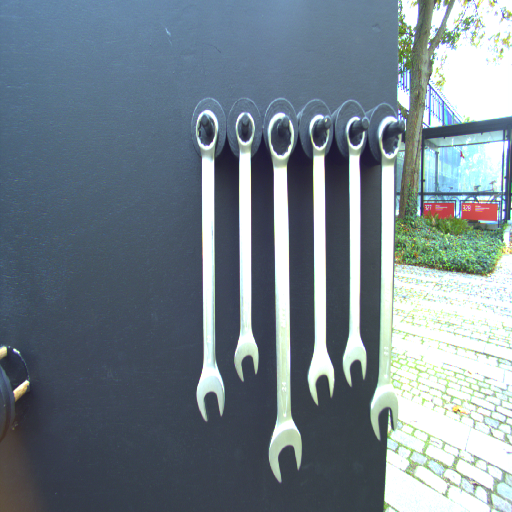bottom: (268, 419, 303, 483), (192, 368, 228, 423), (369, 384, 401, 441), (307, 353, 336, 406), (231, 334, 262, 382), (340, 341, 368, 386)
top: (267, 112, 294, 164), (375, 114, 403, 164), (194, 108, 219, 158), (306, 114, 331, 158), (343, 115, 367, 159), (234, 110, 256, 152)
